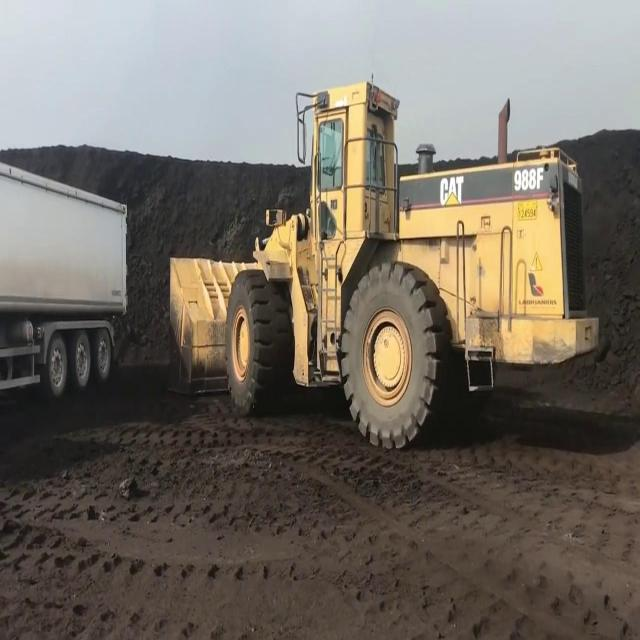buldozerpayloadergrader: (164, 80, 600, 453)
dump_truck: (0, 165, 132, 391)
